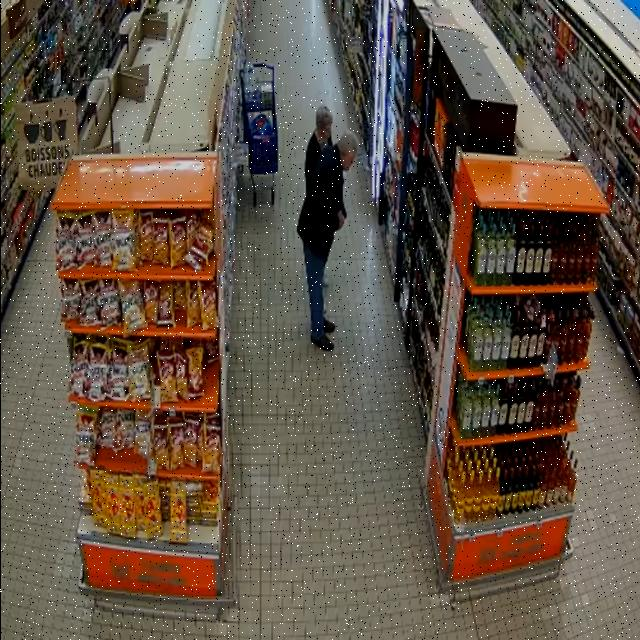hands: (338, 212, 345, 229)
person: (298, 131, 358, 350), (305, 106, 333, 191)
